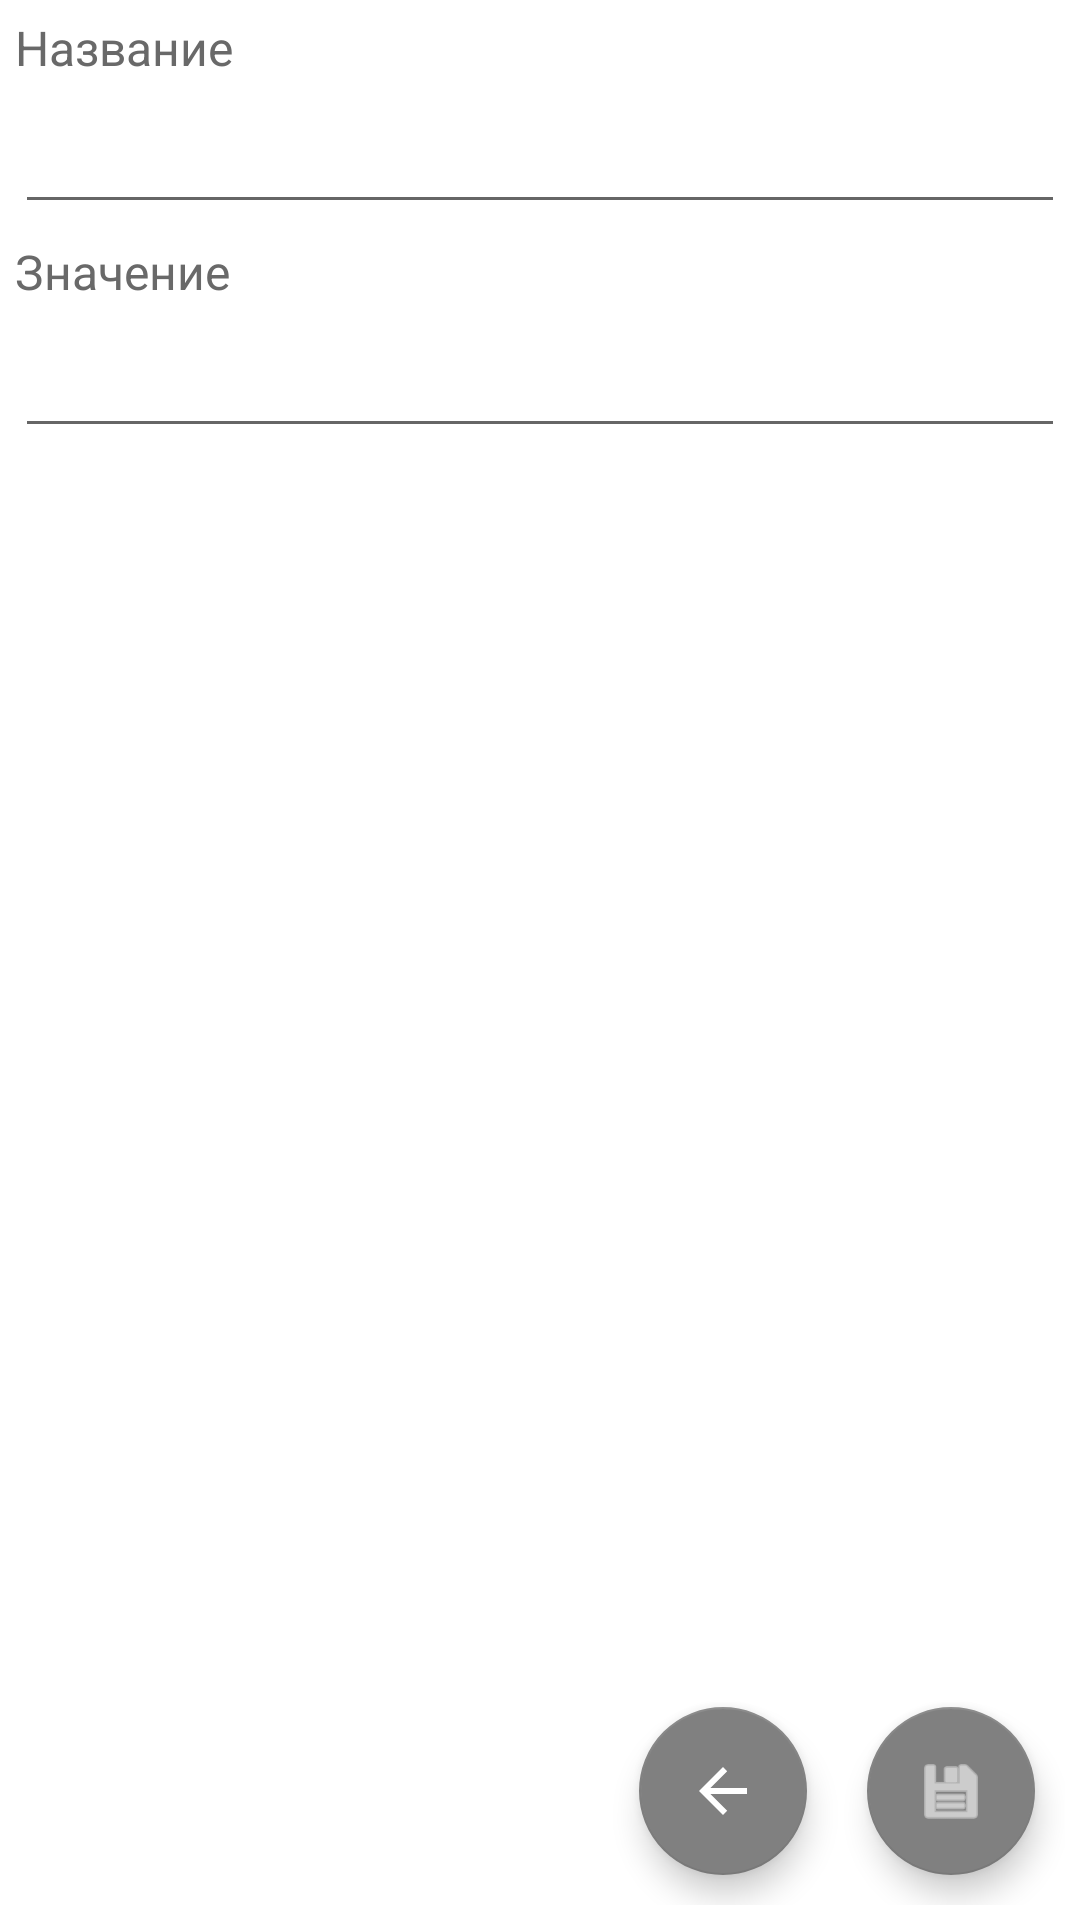

Screen size 1080px×1920px. Icon name, then its center in pixels as (x=x, y=y):
save: (x=951, y=1791)
